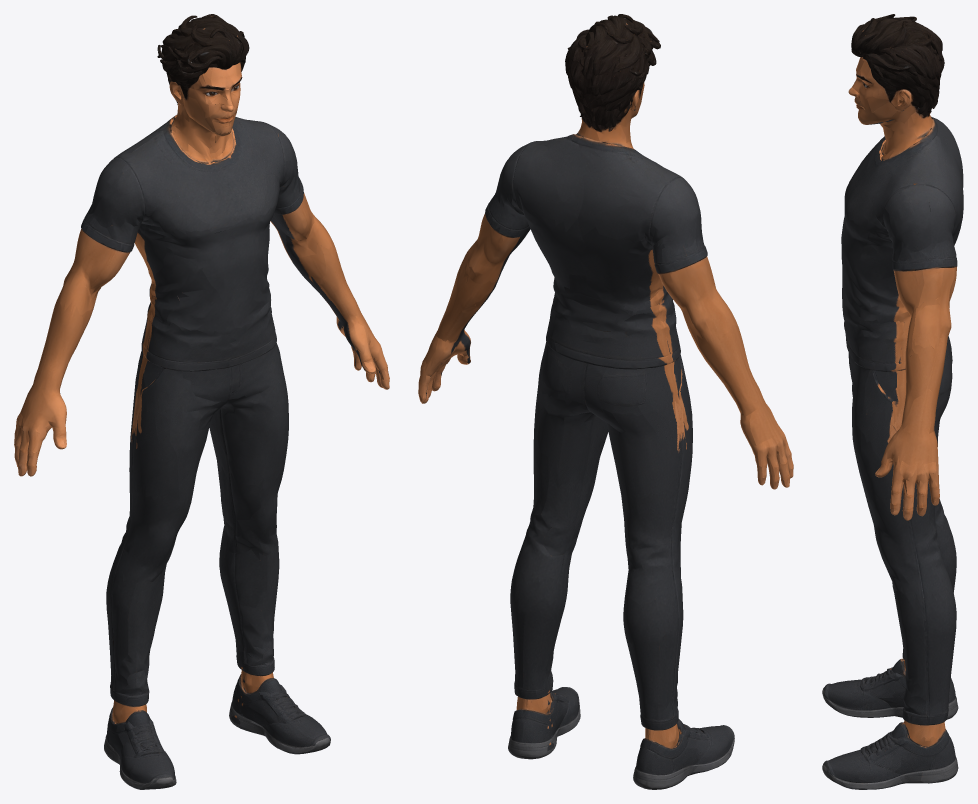
Rendered from life-hero-high-detail-remesh.glb.
The picture shows the model from 3 angles, left to right: view 1: azimuth 30°, elevation 25°; view 2: azimuth 150°, elevation 25°; view 3: azimuth 270°, elevation 25°; orthographic projection.
Visible parts, largest first — view 1: output_unwrapped; view 2: output_unwrapped; view 3: output_unwrapped.
Boxes of the visible parts, x1,y1,x2,y2 form: output_unwrapped: (14,14,389,789); output_unwrapped: (418,14,793,789); output_unwrapped: (822,14,963,789).
Size of the model in its own units: 0.9988 by 1.9 by 0.3365.
Materials: 1 (1 with a texture image).
